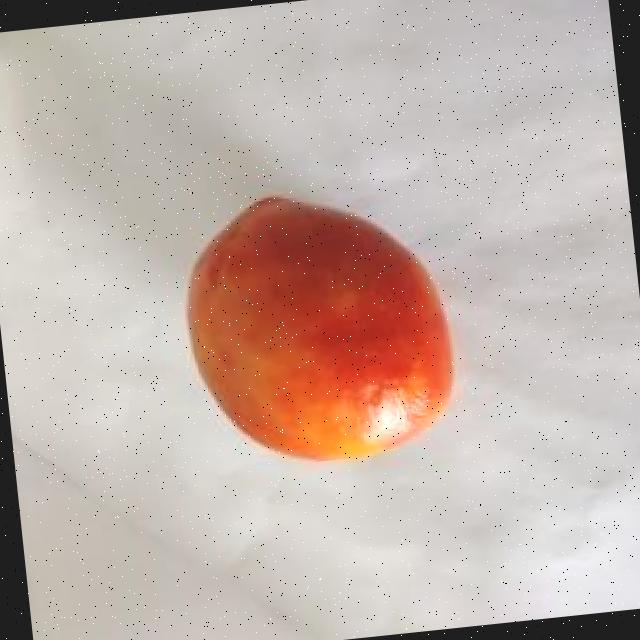Ripe: (165, 172, 470, 480)
